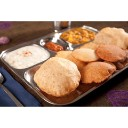poori: (33, 57, 81, 95), (82, 58, 115, 83), (96, 24, 128, 49), (96, 43, 127, 64), (73, 47, 101, 63)
